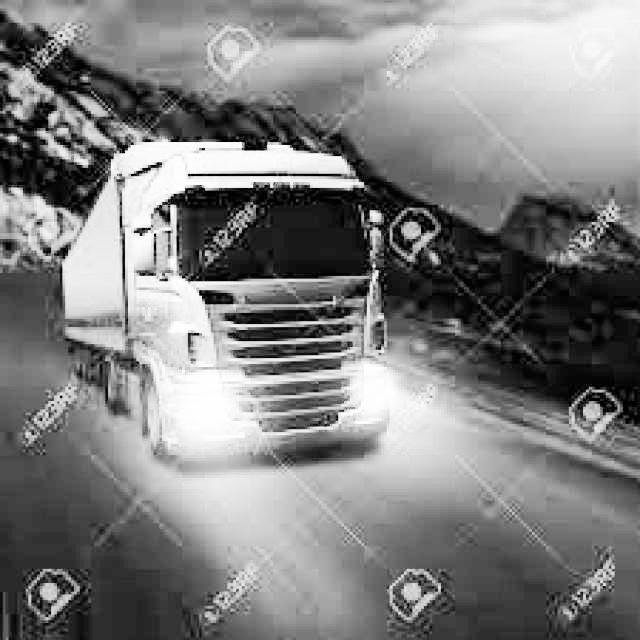Truck: (55, 137, 390, 464)
